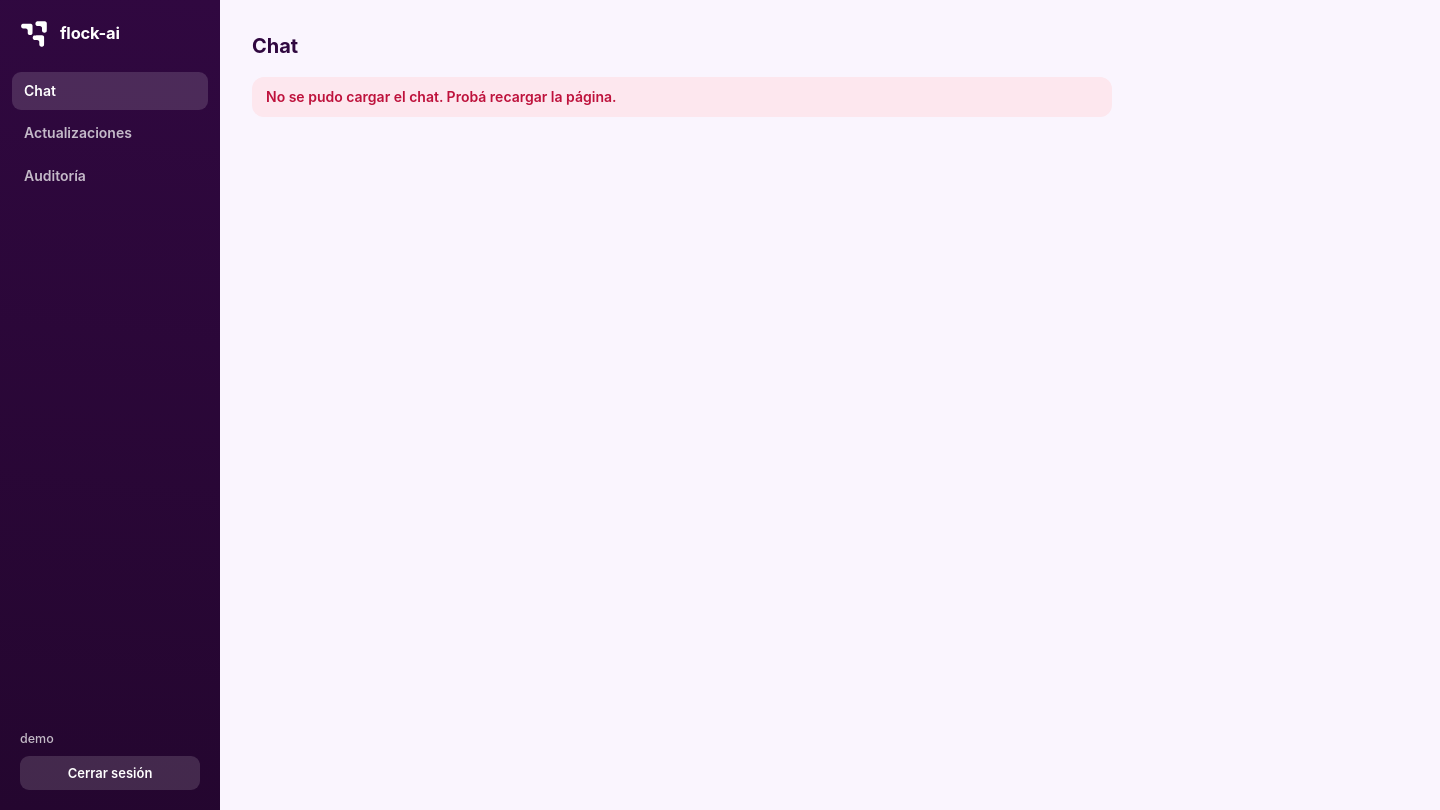
login flow › signs out and goes back to the login page
Click the button "Cerrar sesión". click: (110, 773)
box: [20,756,200,790]
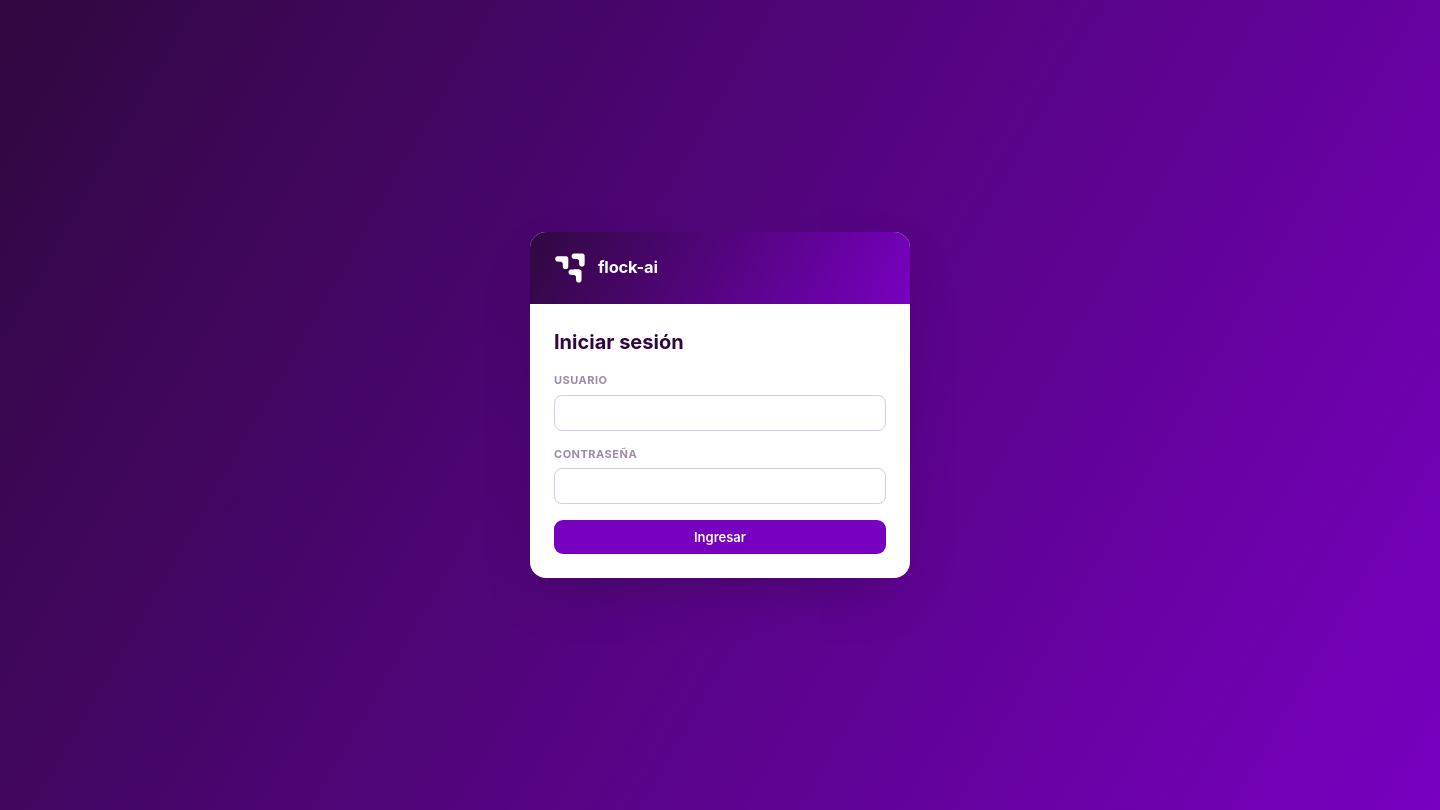
Check: the heading "Iniciar sesión" is shown, box [554,330,684,354]
